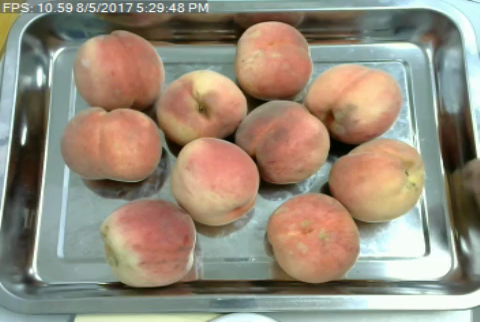Peach: (266, 192, 359, 283), (101, 199, 197, 285), (330, 136, 425, 222), (236, 101, 330, 184), (170, 137, 258, 225), (73, 29, 165, 112), (61, 106, 161, 182), (308, 64, 402, 144), (153, 68, 249, 146), (231, 19, 314, 98)
